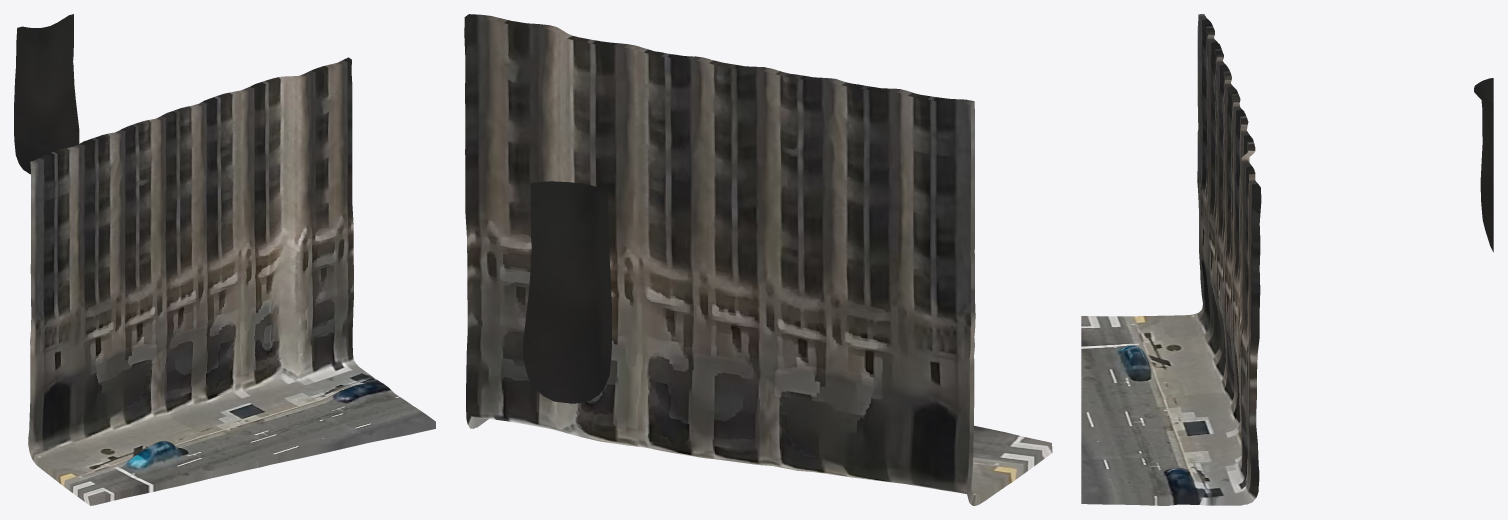
The model's file is z20-167764-405236-h0-yup-uvflip-v3-world.glb.
3 renders of one model, left to right at view 1: azimuth 30°, elevation 25°; view 2: azimuth 150°, elevation 25°; view 3: azimuth 270°, elevation 25°, orthographic. The views are drawn at different scales.
Bounding box in the file's own units: 30.2 × 25.84 × 30.32.
1 material, 1 textured.
